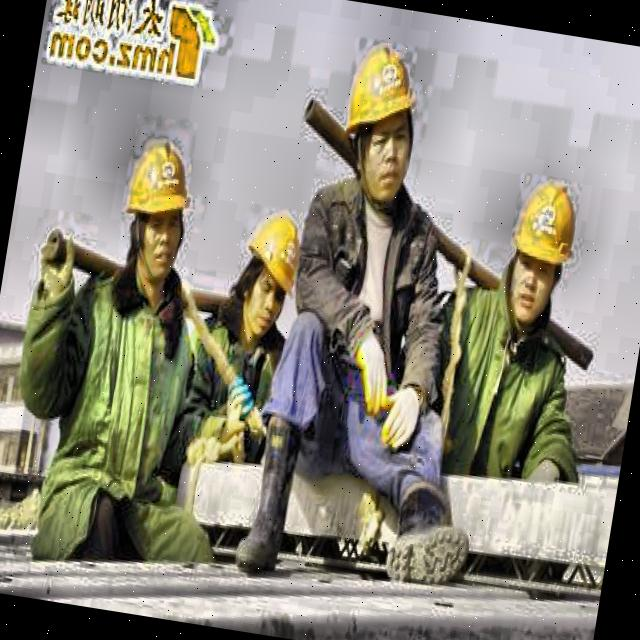helmet: (323, 31, 431, 224), (109, 127, 202, 292), (497, 168, 586, 334), (225, 200, 313, 348)
